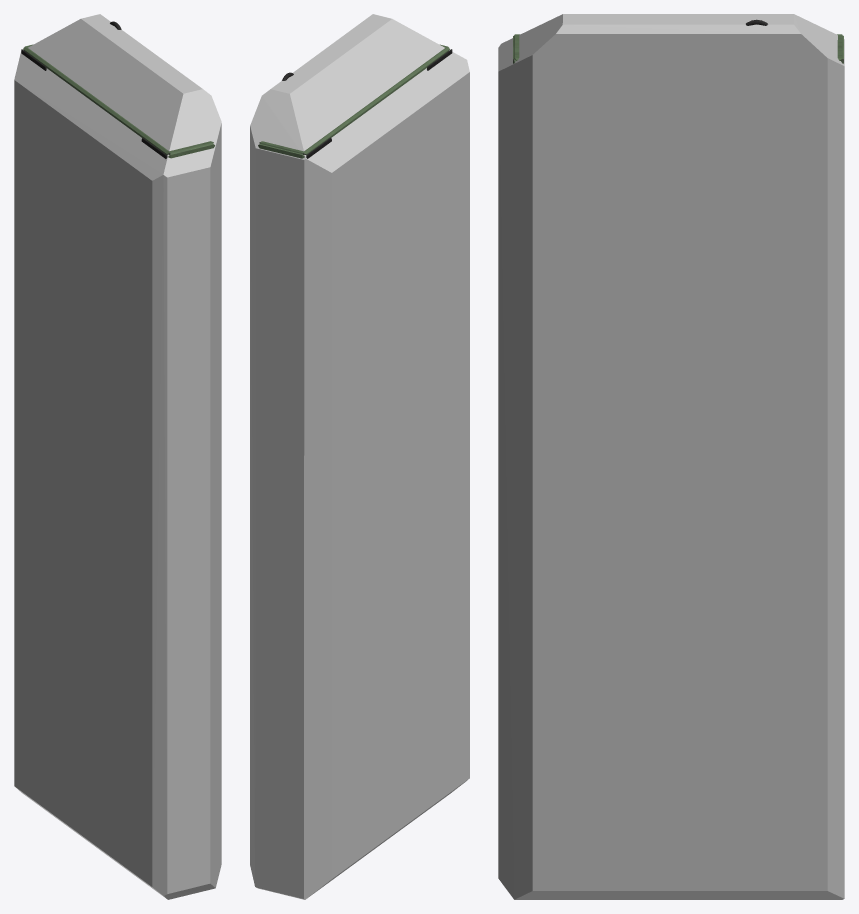
Rendered from SM_SMJC_Door02C.fbx.
3 renders of one model, left to right at view 1: azimuth 30°, elevation 25°; view 2: azimuth 150°, elevation 25°; view 3: azimuth 270°, elevation 25°, orthographic. The views are drawn at different scales.
Visible parts, largest first — view 1: SM_SMJC_Door02C_ConvexHulls, SM_SMJC_Door02C; view 2: SM_SMJC_Door02C_ConvexHulls, SM_SMJC_Door02C; view 3: SM_SMJC_Door02C_ConvexHulls.
Boxes of the visible parts, box(x1,y1,x2,y2) form: SM_SMJC_Door02C_ConvexHulls: box(14, 14, 221, 899); SM_SMJC_Door02C: box(21, 21, 214, 158); SM_SMJC_Door02C_ConvexHulls: box(250, 14, 469, 899); SM_SMJC_Door02C: box(258, 44, 452, 158); SM_SMJC_Door02C_ConvexHulls: box(498, 14, 844, 899).
Size of the model in its own units: 19.88 by 66.8 by 188.
Materials: 3 (2 with a texture image).
